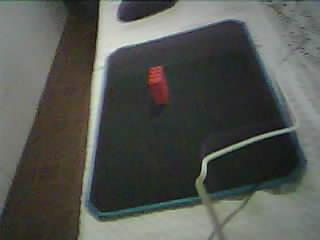lego: (145, 65, 170, 105)
